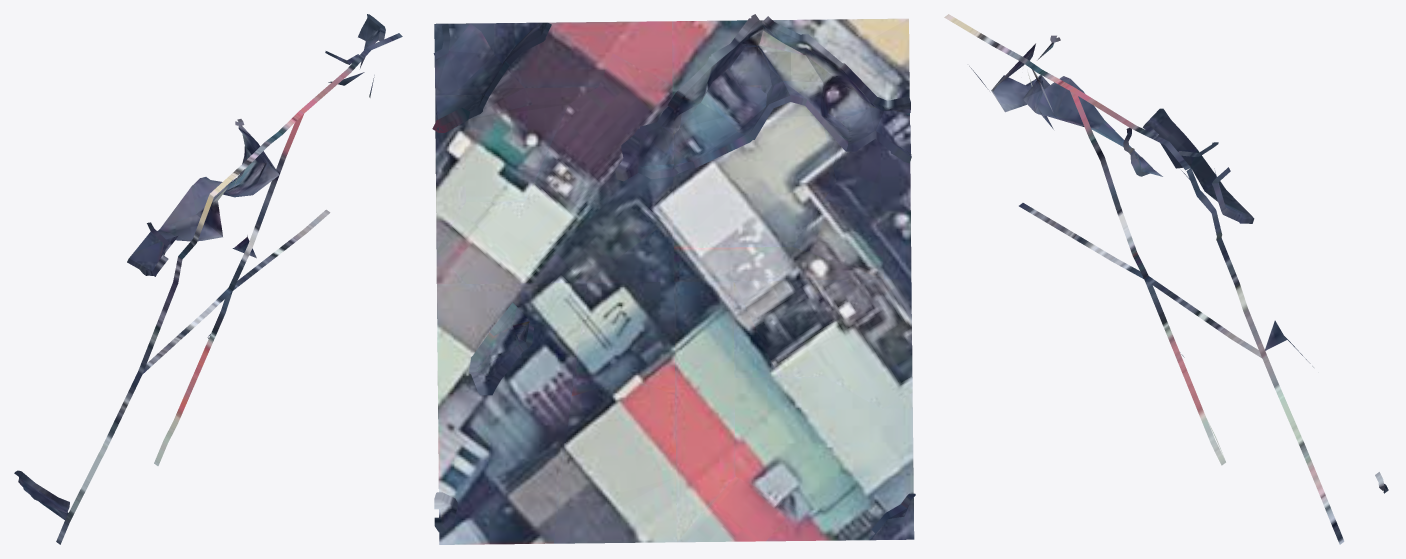
3 renders of one model, left to right at view 1: azimuth 30°, elevation 25°; view 2: azimuth 150°, elevation 25°; view 3: azimuth 270°, elevation 25°, orthographic. The views are drawn at different scales.
Size of the model in its own units: 39.01 by 37.38 by 34.81.
1 material, 1 textured.
